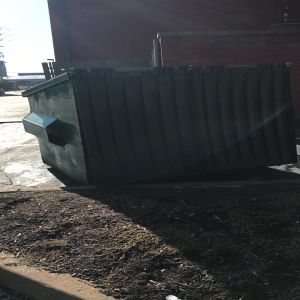Dumpster: (17, 64, 300, 187)
